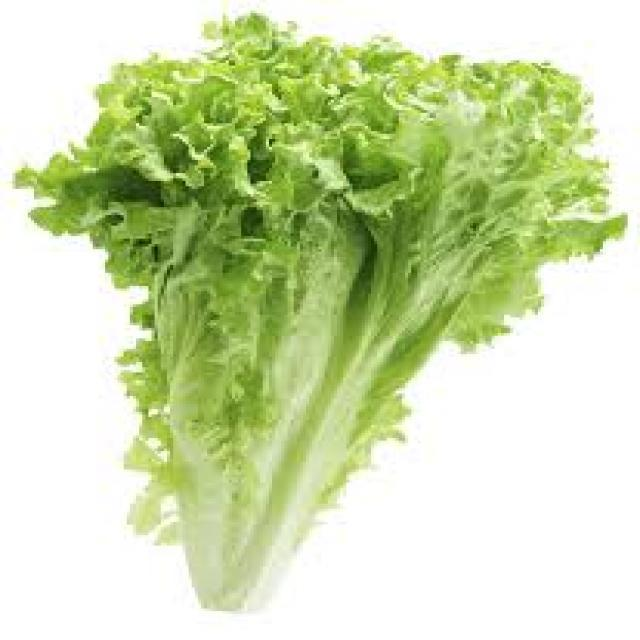Lettuce: (21, 10, 622, 617)
